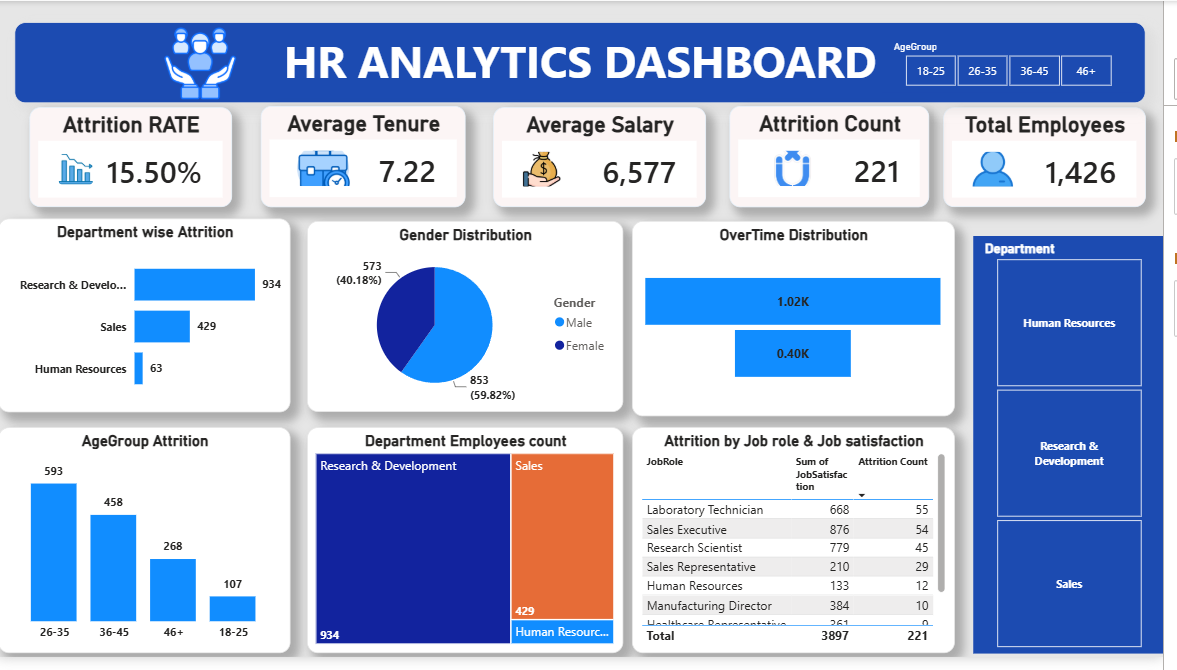

What the dashboard file says about the page in this screenshot:
{"tool":"powerbi","page":{"name":"Page 1","canvas":[1280,720],"ordinal":0},"visuals":[{"type":"cardVisual","title":"Total Employees","fields":{"Data":["HR_Analytics_Cleaned.Total Employees Display"]},"box":[1038.8,116.6,222.3,109.8],"z":0},{"type":"textbox","box":[19.2,23.3,1241.9,89.2],"z":1000},{"type":"image","box":[157.8,28.8,130.4,79.6],"z":2000},{"type":"cardVisual","title":"Attrition Count","fields":{"Data":["HR_Analytics_Cleaned.Attrition Count"]},"box":[804.1,115.3,219.6,111.1],"z":3000},{"type":"cardVisual","title":"Attrition RATE","fields":{"Data":["HR_Analytics_Cleaned.Attrition Rate"]},"box":[35.7,116.6,222.3,109.8],"z":4000},{"type":"cardVisual","title":"Average Salary","fields":{"Data":["HR_Analytics_Cleaned.Average Salary Display"]},"box":[544.8,116.6,233.3,109.8],"z":5000},{"type":"cardVisual","title":"Average Tenure","fields":{"Data":["HR_Analytics_Cleaned.Average Tenure"]},"box":[289.5,115.3,225,111.1],"z":6000},{"type":"clusteredBarChart","title":"Department wise Attrition","fields":{"Category":["HR_Analytics_Cleaned.Department"],"Y":["CountNonNull(HR_Analytics_Cleaned.EmployeeNumber)"]},"box":[1.4,238.8,321.1,212.7],"z":7000},{"type":"pieChart","title":"Gender Distribution","fields":{"Y":["CountNonNull(HR_Analytics_Cleaned.EmployeeNumber)"],"Category":["HR_Analytics_Cleaned.Gender"]},"box":[340.3,241.5,347.2,209.9],"z":8000},{"type":"funnel","title":"OverTime Distribution","fields":{"Category":["HR_Analytics_Cleaned.OverTime"],"Y":["CountNonNull(HR_Analytics_Cleaned.EmployeeNumber)"]},"box":[697.1,241.5,354,214.1],"z":9000},{"type":"columnChart","title":"AgeGroup Attrition","fields":{"Category":["HR_Analytics_Cleaned.AgeGroup"],"Y":["CountNonNull(HR_Analytics_Cleaned.EmployeeNumber)"]},"box":[1.4,467.9,321.1,248.4],"z":10000},{"type":"treemap","title":"Department Employees count","fields":{"Group":["HR_Analytics_Cleaned.Department"],"Values":["CountNonNull(HR_Analytics_Cleaned.EmployeeNumber)"]},"box":[340.3,467.9,347.2,248.4],"z":11000},{"type":"tableEx","title":"Attrition by Job role & Job satisfaction","fields":{"Values":["HR_Analytics_Cleaned.JobRole","Sum(HR_Analytics_Cleaned.JobSatisfaction)","HR_Analytics_Cleaned.Attrition Count"]},"box":[697.1,467.9,354,248.4],"z":12000},{"type":"slicer","fields":{"Values":["HR_Analytics_Cleaned.AgeGroup"]},"box":[971.5,38.4,275.8,61.7],"z":13000},{"type":"slicer","fields":{"Values":["HR_Analytics_Cleaned.Department"]},"box":[1071.7,258,208.6,458.3],"z":14000}]}

Visuals, with their boxes in screenshot pixels (x1, y1, x2, y2), scaled from the page's 1280x720 canvas onto the 1177x670 screenshot:
"Total Employees" cardVisual: bbox=(955, 109, 1160, 211)
textbox: bbox=(18, 22, 1160, 105)
image: bbox=(145, 27, 265, 101)
"Attrition Count" cardVisual: bbox=(739, 107, 941, 211)
"Attrition RATE" cardVisual: bbox=(33, 109, 237, 211)
"Average Salary" cardVisual: bbox=(501, 109, 715, 211)
"Average Tenure" cardVisual: bbox=(266, 107, 473, 211)
"Department wise Attrition" clusteredBarChart: bbox=(1, 222, 297, 420)
"Gender Distribution" pieChart: bbox=(313, 225, 632, 420)
"OverTime Distribution" funnel: bbox=(641, 225, 967, 424)
"AgeGroup Attrition" columnChart: bbox=(1, 435, 297, 667)
"Department Employees count" treemap: bbox=(313, 435, 632, 667)
"Attrition by Job role & Job satisfaction" tableEx: bbox=(641, 435, 967, 667)
slicer - HR_Analytics_Cleaned.AgeGroup: bbox=(893, 36, 1147, 93)
slicer - HR_Analytics_Cleaned.Department: bbox=(985, 240, 1176, 667)
